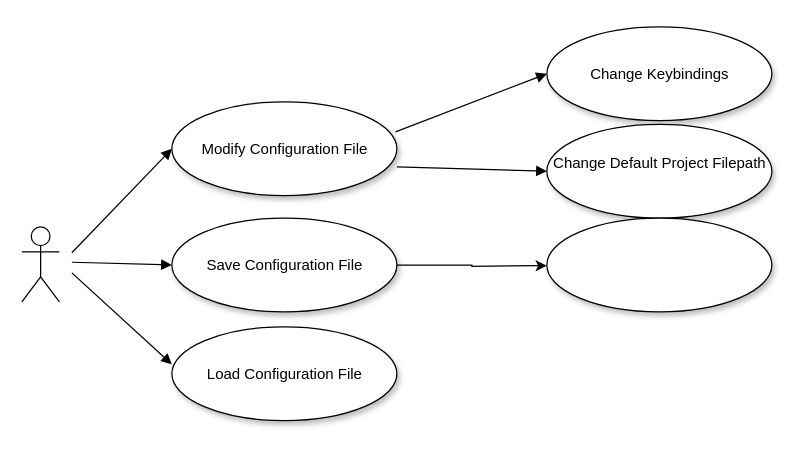
Image size: 801x451. Some labels were removed from this diagram. Here are the shapes that lost their labels. From the top down, the centre of each, then its label:
At point 40,264: "User".
At point 660,266: "Save File as".
